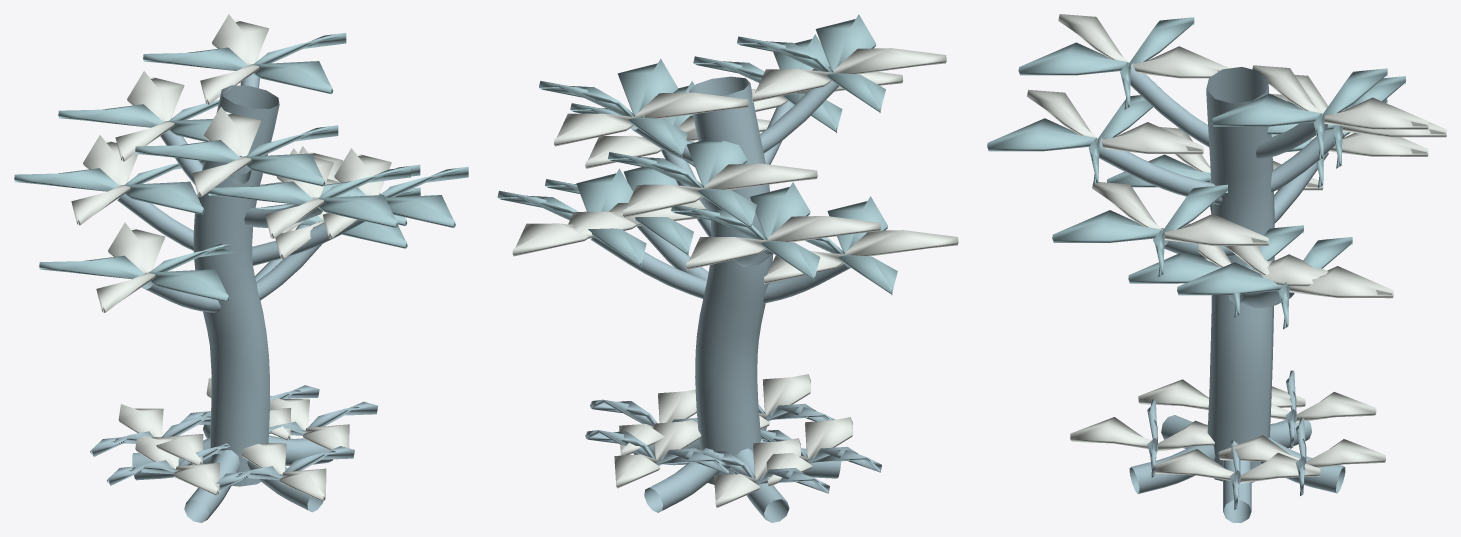
File: bio_canopy_tree_20_far.glb
3 views of the same model, side by side, from view 1: azimuth 30°, elevation 25°; view 2: azimuth 150°, elevation 25°; view 3: azimuth 270°, elevation 25° (orthographic). The views are drawn at different scales.
Parts seen in each view (by area): view 1: Buttressed trunk, Broad canopy leaf.035, Broad canopy leaf.015, Broad canopy leaf.010, Broad canopy leaf.020, Broad canopy leaf.005, Broad canopy leaf.021, Broad canopy leaf.036, Broad canopy leaf.025, Broad canopy leaf.030, Broad canopy leaf.031, Broad canopy leaf.016 (+15 smaller); view 2: Buttressed trunk, Broad canopy leaf.035, Broad canopy leaf.015, Broad canopy leaf.005, Broad canopy leaf.030, Broad canopy leaf.016, Broad canopy leaf.031, Broad canopy leaf.036, Broad canopy leaf.006, Broad canopy leaf.040, Broad canopy leaf.021, Broad canopy leaf.020 (+17 smaller); view 3: Buttressed trunk, Broad canopy leaf.035, Broad canopy leaf.015, Broad canopy leaf.025, Broad canopy leaf.010, Broad canopy leaf.011, Broad canopy leaf.026, Broad canopy leaf.040, Broad canopy leaf.016, Broad canopy leaf.036, Broad canopy leaf, Low buttress leaf.001 (+14 smaller).
Part boxes in pixels (x1=…): Buttressed trunk: x1=117, y1=74, x2=365, y2=522; Broad canopy leaf.035: x1=135, y1=125, x2=338, y2=186; Broad canopy leaf.015: x1=143, y1=33, x2=346, y2=93; Broad canopy leaf.010: x1=208, y1=166, x2=410, y2=227; Broad canopy leaf.020: x1=39, y1=243, x2=235, y2=302; Broad canopy leaf.005: x1=14, y1=160, x2=204, y2=214; Broad canopy leaf.021: x1=96, y1=222, x2=165, y2=312; Broad canopy leaf.036: x1=192, y1=107, x2=261, y2=197; Broad canopy leaf.025: x1=321, y1=166, x2=468, y2=227; Broad canopy leaf.030: x1=58, y1=100, x2=219, y2=141; Broad canopy leaf.031: x1=115, y1=71, x2=184, y2=161; Broad canopy leaf.016: x1=200, y1=14, x2=269, y2=104; Buttressed trunk: x1=590, y1=71, x2=850, y2=522; Broad canopy leaf.035: x1=737, y1=14, x2=885, y2=112; Broad canopy leaf.015: x1=539, y1=58, x2=687, y2=157; Broad canopy leaf.005: x1=671, y1=182, x2=820, y2=281; Broad canopy leaf.030: x1=608, y1=140, x2=756, y2=228; Broad canopy leaf.016: x1=554, y1=92, x2=748, y2=146; Broad canopy leaf.031: x1=623, y1=163, x2=817, y2=217; Broad canopy leaf.036: x1=752, y1=48, x2=946, y2=101; Broad canopy leaf.006: x1=686, y1=216, x2=880, y2=269; Broad canopy leaf.040: x1=497, y1=168, x2=646, y2=267; Broad canopy leaf.021: x1=763, y1=230, x2=958, y2=284; Broad canopy leaf.020: x1=805, y1=196, x2=897, y2=295; Buttressed trunk: x1=1099, y1=63, x2=1345, y2=522; Broad canopy leaf.035: x1=1018, y1=17, x2=1194, y2=109; Broad canopy leaf.015: x1=1212, y1=68, x2=1387, y2=160; Broad canopy leaf.025: x1=1052, y1=184, x2=1227, y2=277; Broad canopy leaf.010: x1=987, y1=95, x2=1152, y2=185; Broad canopy leaf.011: x1=1027, y1=89, x2=1203, y2=154; Broad canopy leaf.026: x1=1092, y1=182, x2=1268, y2=245; Broad canopy leaf.040: x1=1177, y1=237, x2=1352, y2=329; Broad canopy leaf.016: x1=1252, y1=65, x2=1428, y2=129; Broad canopy leaf.036: x1=1058, y1=14, x2=1229, y2=78; Broad canopy leaf: x1=1128, y1=225, x2=1303, y2=317; Low buttress leaf.001: x1=1155, y1=449, x2=1320, y2=483.
Bounding box in the file's own units: 3.06 × 2.99 × 3.05.
